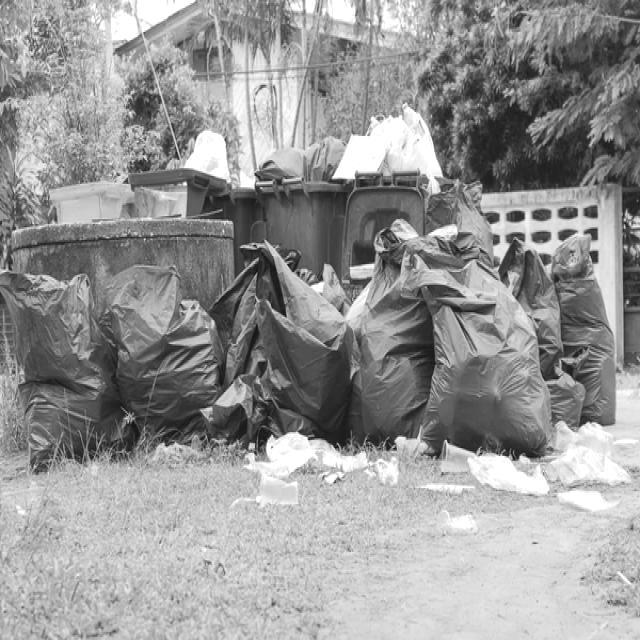high trash: (0, 220, 628, 502)
